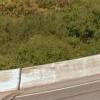Tree: (8, 6, 92, 58)
